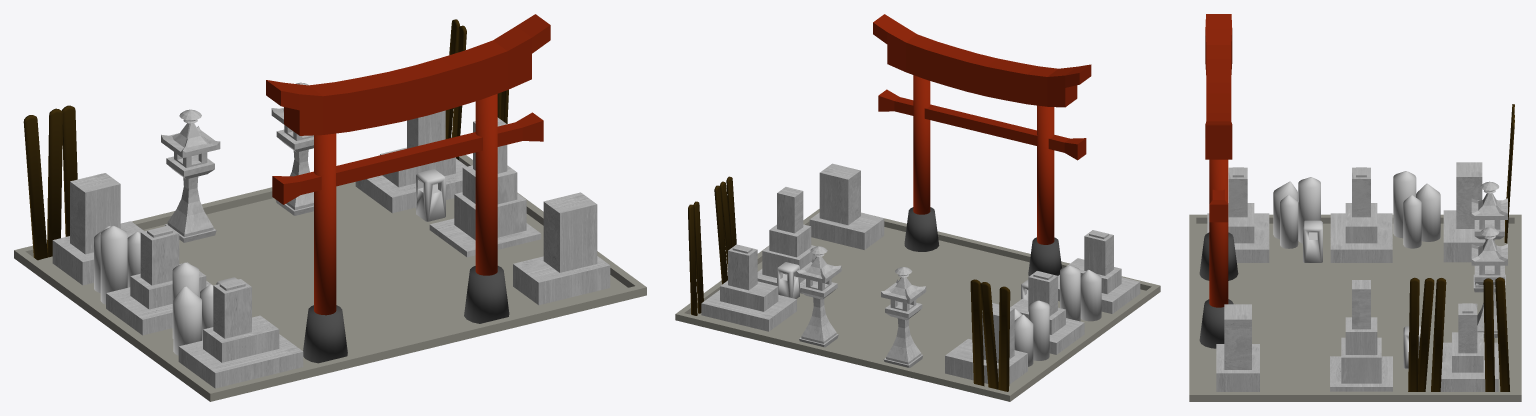
The model's file is groby2.fbx.
3 renders of one model, left to right at view 1: azimuth 30°, elevation 25°; view 2: azimuth 150°, elevation 25°; view 3: azimuth 270°, elevation 25°, orthographic. The views are drawn at different scales.
Parts seen in each view (by area): view 1: Cube.030, Cube.034, Cube.029, Cube.041, Cube.033, Cube.032, Cube.042, Cube.031, lampa, Cylinder.009, Cylinder.010, Cube.047 (+11 smaller); view 2: Cube.030, Cube.034, Cube.047, Cube.041, Cube.042, Cube.033, Cube.029, lampa.001, lampa, Cylinder.009, Cylinder.010, Cube.032 (+16 smaller); view 3: Cube.030, Cube.042, Cube.032, Cube.034, Cube.047, Cube.041, Cube.029, Cube.031, Cylinder.010, lampa.001, lampa, Cube.051 (+16 smaller).
Boxes of the visible parts, bbox=[...] form: Cube.030: bbox=[14, 155, 646, 401]; Cube.034: bbox=[266, 14, 550, 135]; Cube.029: bbox=[178, 279, 303, 388]; Cube.041: bbox=[513, 192, 610, 305]; Cube.033: bbox=[272, 112, 543, 204]; Cube.032: bbox=[106, 225, 210, 335]; Cube.042: bbox=[429, 117, 541, 257]; Cube.031: bbox=[52, 173, 143, 285]; lampa: bbox=[161, 109, 220, 242]; Cylinder.009: bbox=[314, 133, 336, 315]; Cylinder.010: bbox=[475, 94, 497, 275]; Cube.047: bbox=[355, 110, 466, 213]; Cube.030: bbox=[675, 209, 1160, 401]; Cube.034: bbox=[873, 14, 1091, 107]; Cube.047: bbox=[701, 244, 796, 331]; Cube.041: bbox=[809, 163, 884, 249]; Cube.042: bbox=[757, 187, 816, 293]; Cube.033: bbox=[878, 89, 1086, 160]; Cube.029: bbox=[1058, 230, 1140, 313]; lampa.001: bbox=[796, 246, 841, 347]; lampa: bbox=[881, 267, 926, 367]; Cylinder.009: bbox=[1037, 105, 1054, 244]; Cylinder.010: bbox=[913, 75, 930, 214]; Cube.032: bbox=[1011, 271, 1084, 354]; Cube.030: bbox=[1189, 214, 1521, 401]; Cube.042: bbox=[1330, 280, 1392, 391]; Cube.032: bbox=[1330, 167, 1392, 262]; Cube.034: bbox=[1205, 14, 1232, 159]; Cube.047: bbox=[1440, 303, 1498, 391]; Cube.041: bbox=[1216, 304, 1259, 391]; Cube.029: bbox=[1207, 167, 1269, 262]; Cube.031: bbox=[1443, 162, 1494, 262]; Cylinder.010: bbox=[1209, 159, 1228, 307]; lampa.001: bbox=[1471, 227, 1507, 337]; lampa: bbox=[1471, 181, 1507, 292]; Cube.051: bbox=[1495, 277, 1509, 391].
Bounding box in the file's own units: 3466 × 2157 × 2698.
